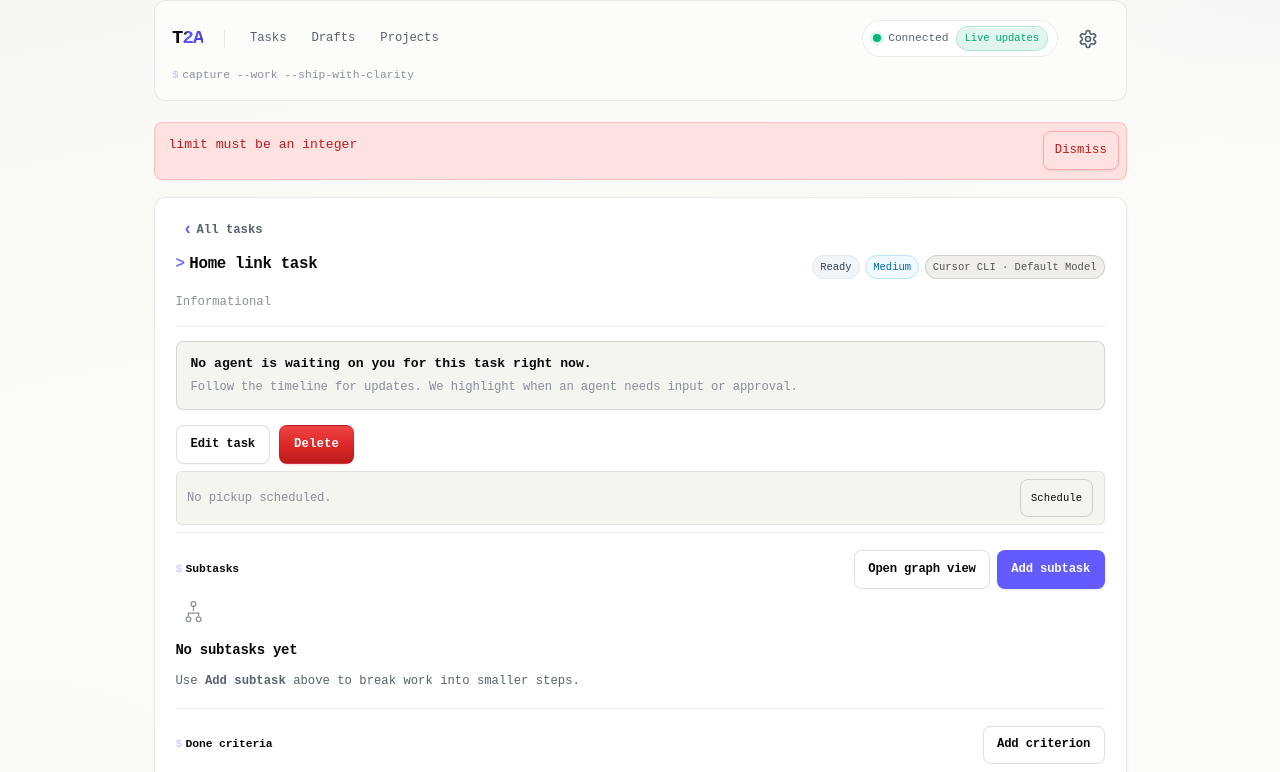
Test: App › navigates home when T2A wordmark is used from a task route
This screenshot has width=1280, height=772.
Expected: the heading "Home link task" is shown, [189,256,317,274]
Click the link "T2A" at (188, 38), box [172,28,204,49]
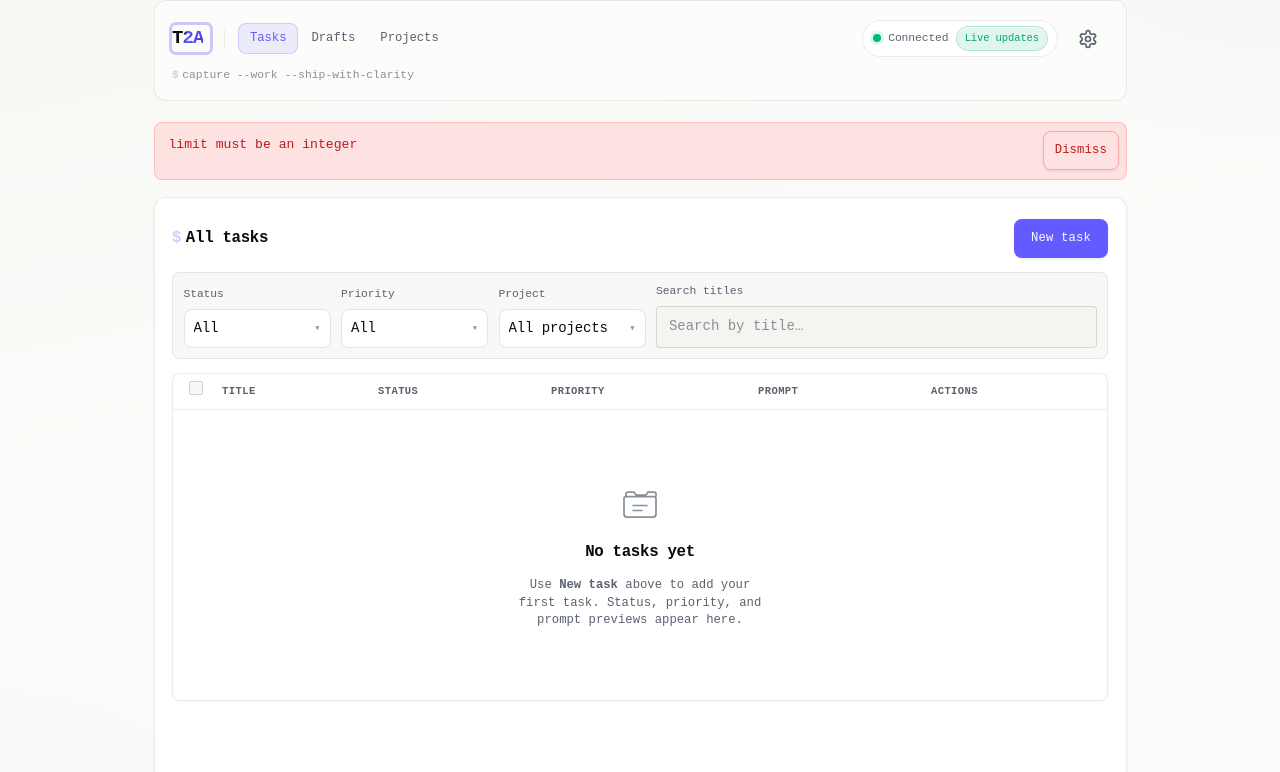
Now the heading "No tasks yet" is shown, box [585,542,695,563]
